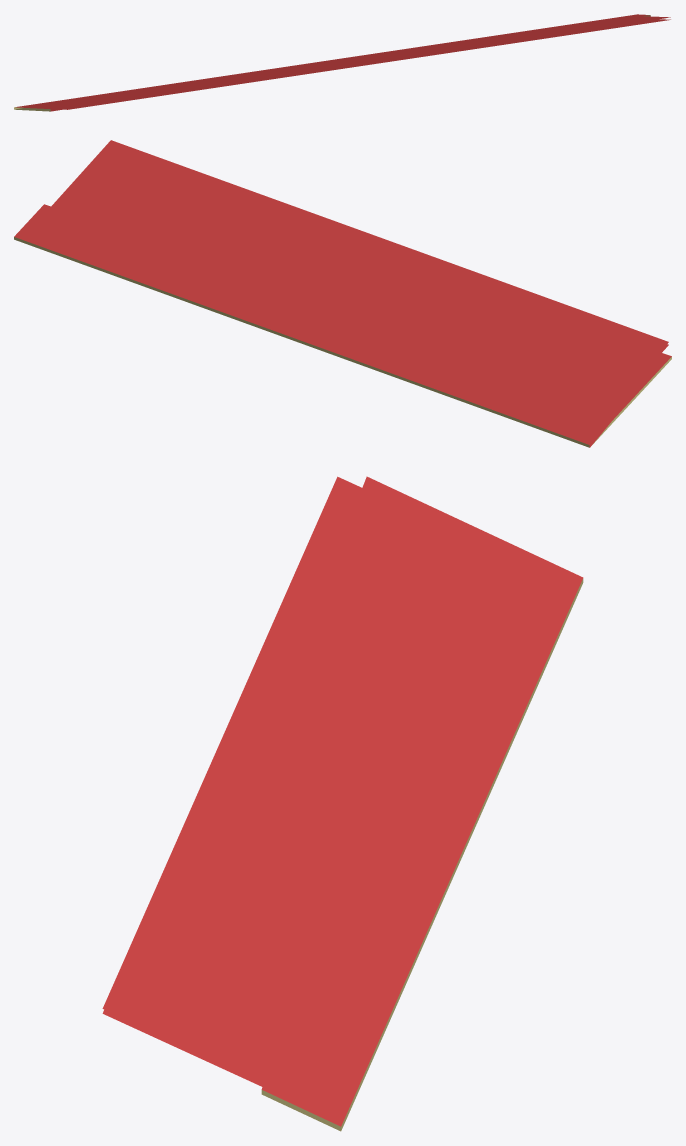
3 views of the same model, one above another, from view 1: azimuth 30°, elevation 25°; view 2: azimuth 150°, elevation 25°; view 3: azimuth 270°, elevation 25° (orthographic). The views are drawn at different scales.
Visible parts, largest first — view 1: group_3, group_5; view 2: group_3, group_4; view 3: group_3, group_4.
Boxes of the visible parts, bbox=[...] form: group_3: bbox=[15, 14, 670, 108]; group_5: bbox=[50, 19, 670, 111]; group_3: bbox=[14, 140, 671, 444]; group_4: bbox=[14, 237, 671, 447]; group_3: bbox=[102, 476, 583, 1126]; group_4: bbox=[261, 578, 583, 1131].
Bounding box in the file's own units: 25.19 × 9.04 × 2.04.
